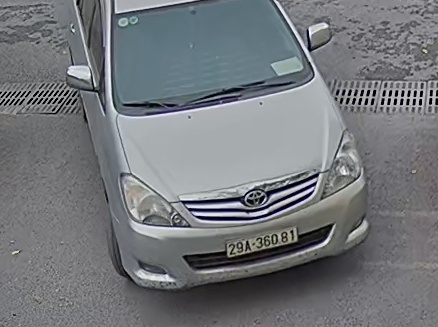vehicle plate: (217, 223, 305, 260)
